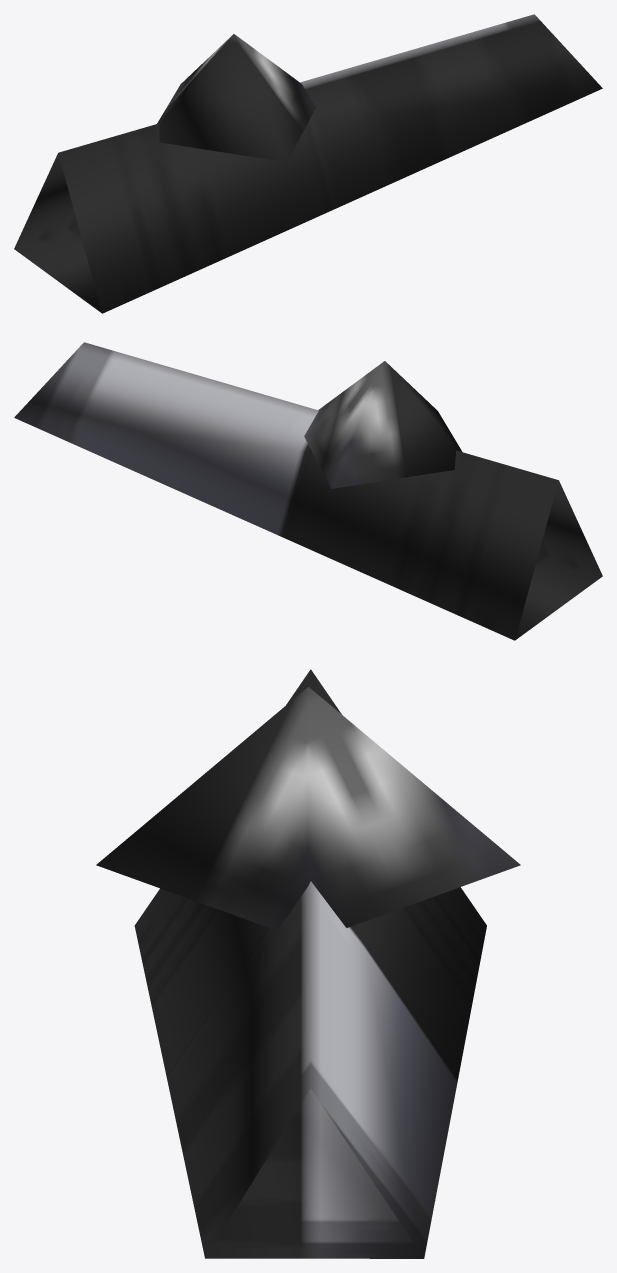
The model's file is shaft_classic_RFr.dae.
3 views of the same model, one above another, from view 1: azimuth 30°, elevation 25°; view 2: azimuth 150°, elevation 25°; view 3: azimuth 270°, elevation 25° (orthographic). The views are drawn at different scales.
Visible parts, largest first — view 1: _0_0_node; view 2: _0_0_node; view 3: _0_0_node.
Part boxes in pixels (bbox=[...]): _0_0_node: bbox=[14, 14, 602, 313]; _0_0_node: bbox=[14, 342, 602, 640]; _0_0_node: bbox=[96, 669, 520, 1258].
Size of the model in its own units: 4.85 by 1.84 by 1.73.
Materials: 1 (1 with a texture image).
